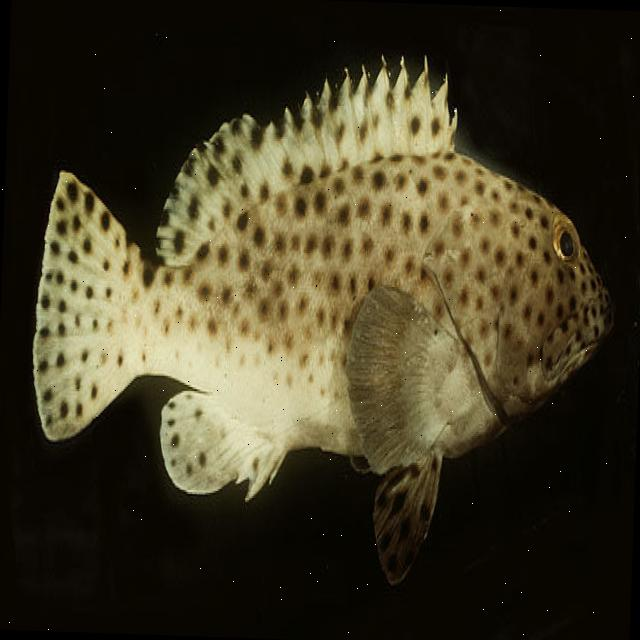ikan: (24, 38, 624, 594)
